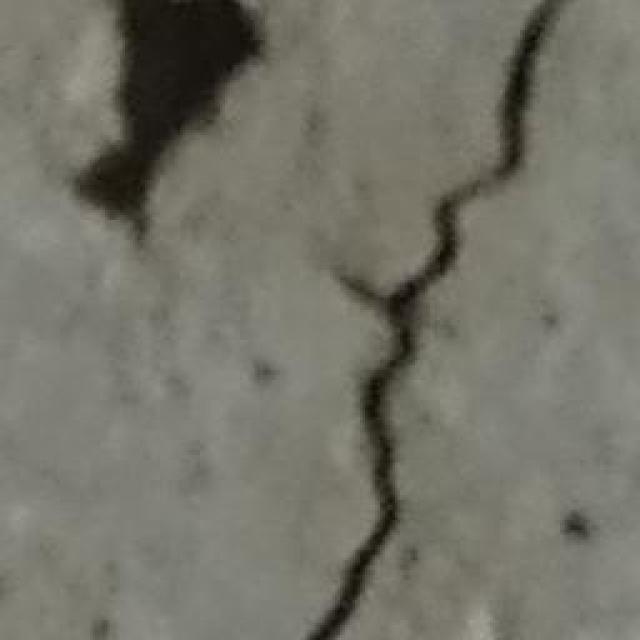Annular: (32, 0, 281, 286)
Longitudinal: (295, 0, 567, 640)
